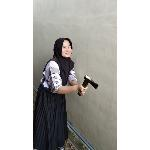Kapak: (76, 70, 100, 98)
